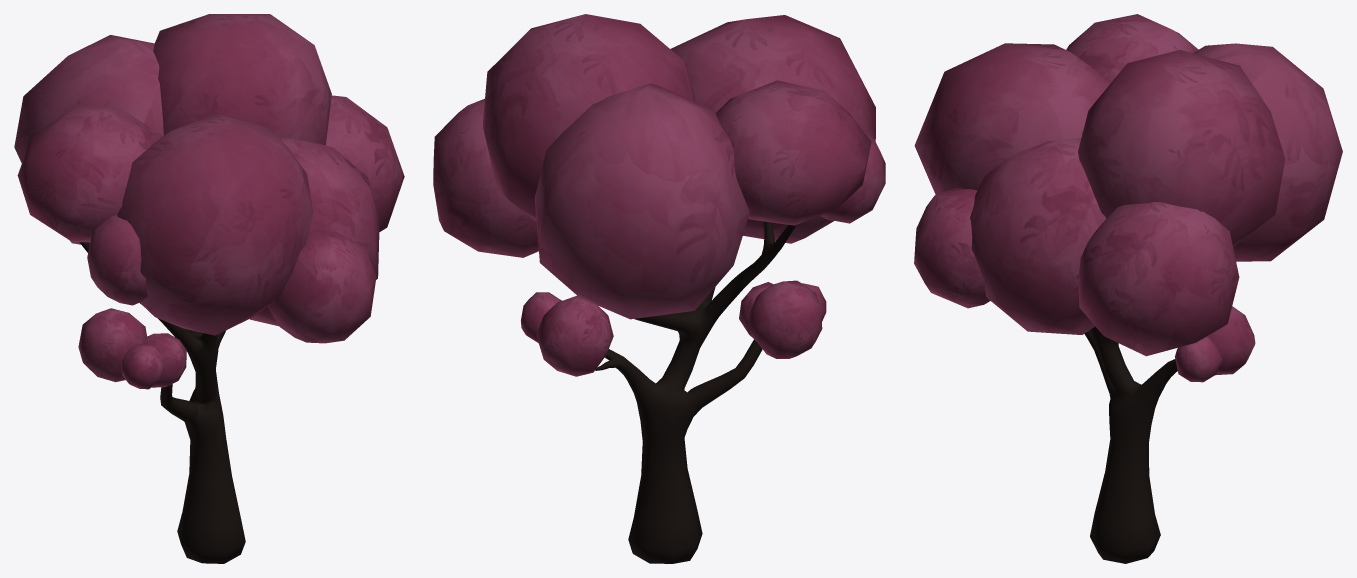
The model's file is tree1.fbx.
3 views of the same model, side by side, from view 1: azimuth 30°, elevation 25°; view 2: azimuth 150°, elevation 25°; view 3: azimuth 270°, elevation 25° (orthographic). The views are drawn at different scales.
Parts seen in each view (by area): view 1: leaves.004; view 2: leaves.004; view 3: leaves.004.
Part boxes in pixels (x1,y1,x2,y2): leaves.004: (14, 14, 404, 563); leaves.004: (433, 14, 885, 563); leaves.004: (914, 14, 1342, 563).
Size of the model in its own units: 1658 by 2122 by 1588.
